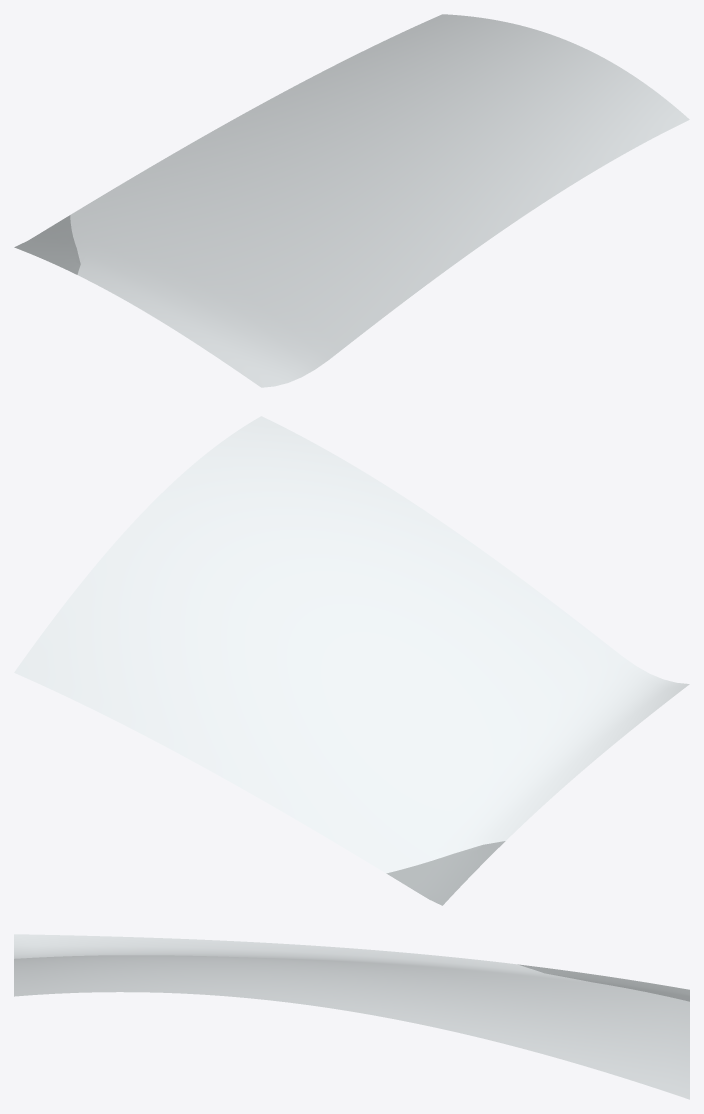
File: alpine-13-9.glb
3 views of the same model, one above another, from view 1: azimuth 30°, elevation 25°; view 2: azimuth 150°, elevation 25°; view 3: azimuth 270°, elevation 25° (orthographic). The views are drawn at different scales.
Visible parts, largest first — view 1: alpine-13-9; view 2: alpine-13-9; view 3: alpine-13-9.
Boxes of the visible parts, x1=… form: alpine-13-9: x1=14, y1=14, x2=689, y2=387; alpine-13-9: x1=14, y1=416, x2=689, y2=905; alpine-13-9: x1=14, y1=934, x2=689, y2=1099.
Bounding box in the file's own units: 256 × 118 × 256.
2 materials, 2 textured.
